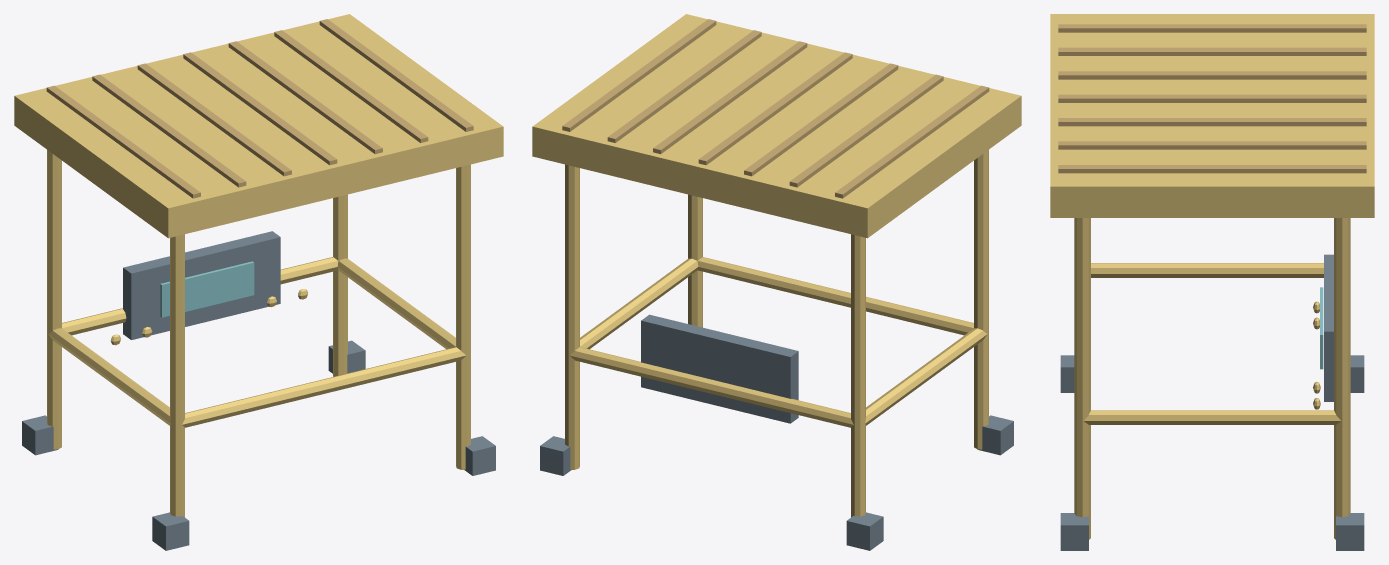
Rendered from grua_cabina.glb.
3 renders of one model, left to right at view 1: azimuth 30°, elevation 25°; view 2: azimuth 150°, elevation 25°; view 3: azimuth 270°, elevation 25°, orthographic. The views are drawn at different scales.
Visible parts, largest first — view 1: grua_cabina; view 2: grua_cabina; view 3: grua_cabina.
Part boxes in pixels (box(x1,y1,x2,y2)): grua_cabina: box(14, 14, 503, 550); grua_cabina: box(532, 14, 1021, 550); grua_cabina: box(1050, 14, 1374, 550).
Bounding box in the file's own units: 2.58 × 2.58 × 2.05.
